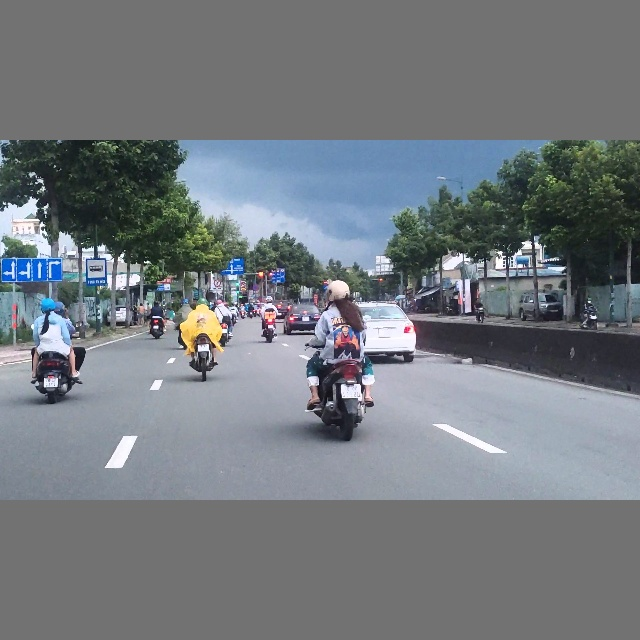I.434a: (86, 257, 107, 285)
P.137: (214, 280, 221, 287)
